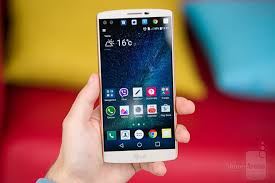lg: (94, 6, 180, 165)
